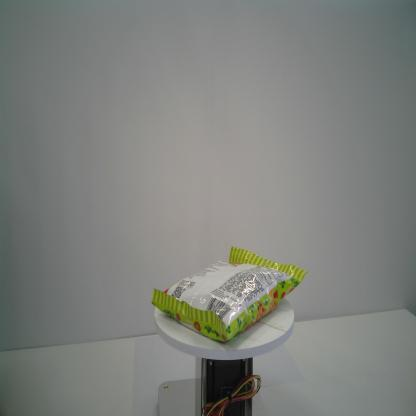Puffed Food: (152, 246, 308, 343)
